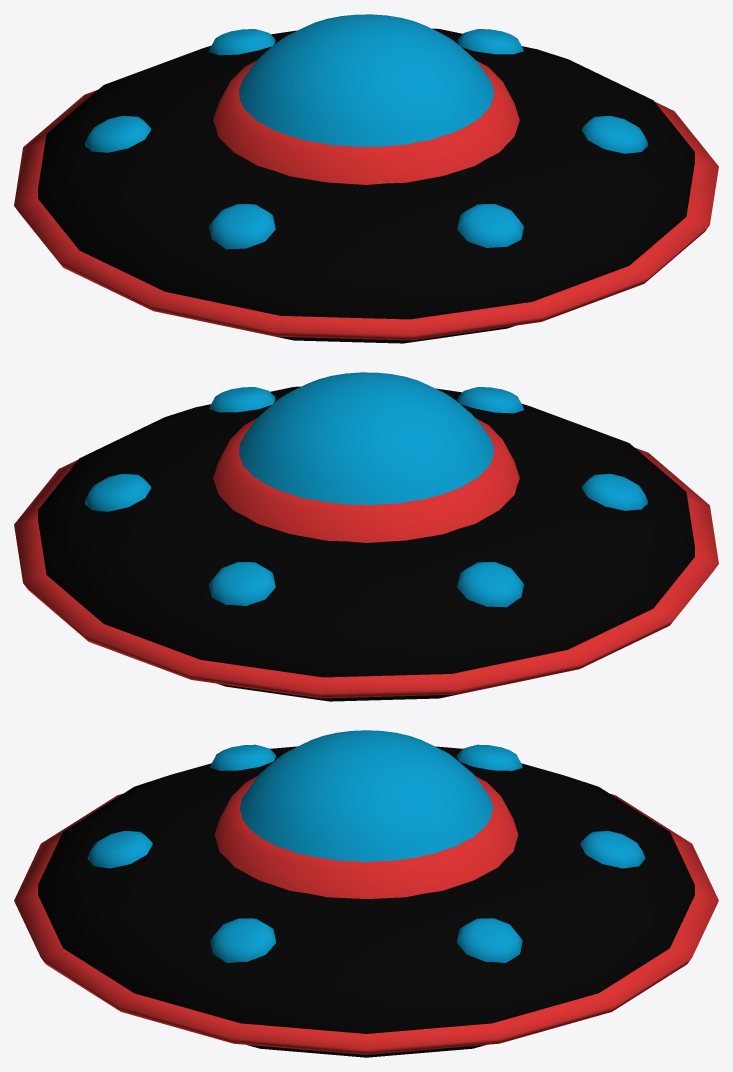
File: Ufo.glb
3 views of the same model, one above another, from view 1: azimuth 30°, elevation 25°; view 2: azimuth 150°, elevation 25°; view 3: azimuth 270°, elevation 25° (orthographic).
Visible parts, largest first — view 1: ufo; view 2: ufo; view 3: ufo.
Part boxes in pixels (x1,y1,x2,y2): ufo: [14, 14, 718, 343]; ufo: [14, 372, 718, 701]; ufo: [14, 730, 718, 1057].
Bounding box in the file's own units: 1.68 × 0.6009 × 1.68.
